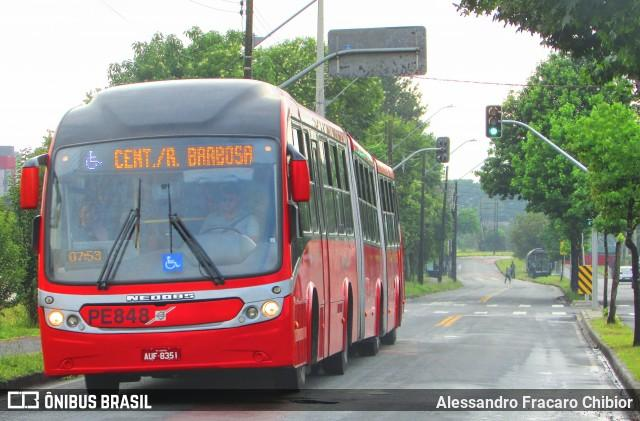CENT R BARBOSA: (109, 141, 256, 172)
